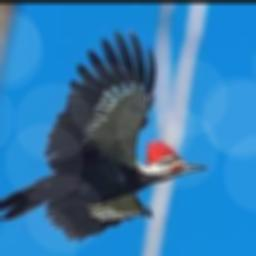Woodpecker: (0, 29, 206, 240)
